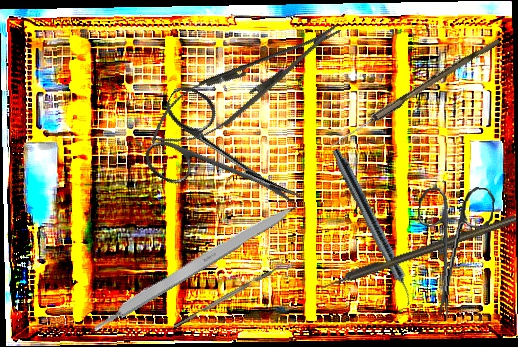Chopper: (170, 257, 288, 329)
Handpiece: (326, 146, 420, 308)
Hook Surgical: (318, 214, 518, 291)
Iris Scissors: (134, 81, 324, 241), (407, 181, 496, 324)
Needle Holder: (137, 5, 354, 165)
Scalpel Handle: (87, 198, 300, 334)
Surgical Spoon: (328, 34, 501, 152)
